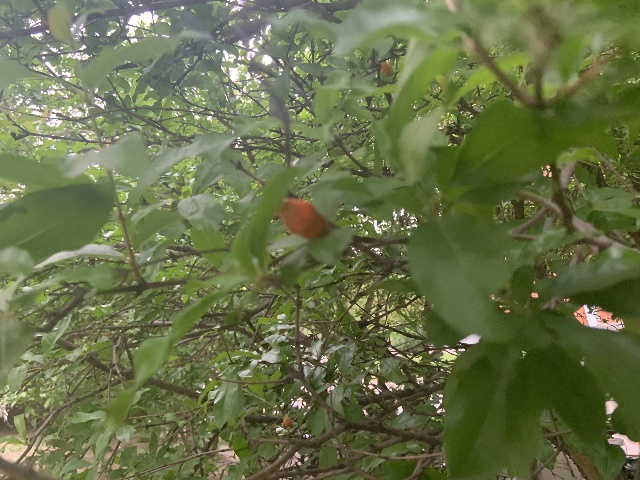bud: (277, 197, 328, 240), (283, 417, 292, 427)
